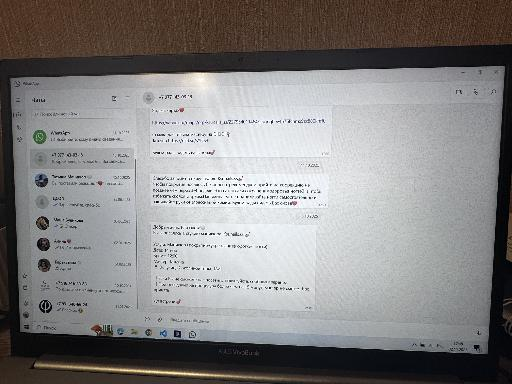whatsapp: (12, 77, 502, 329)
